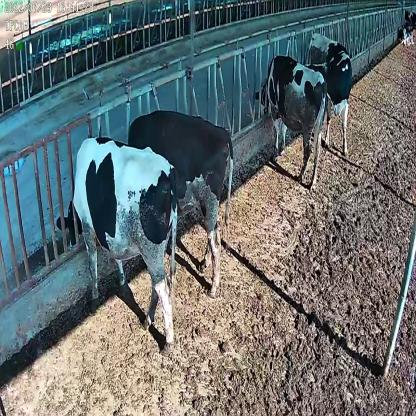cow: (56, 136, 180, 358), (127, 110, 235, 295), (253, 54, 329, 189), (308, 31, 353, 158)
